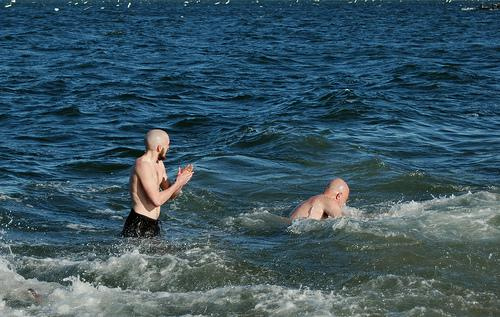human: (119, 127, 194, 238), (287, 176, 351, 221)
